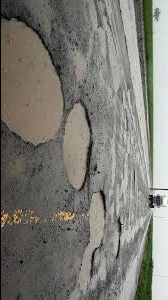pothole: (0, 11, 63, 159), (61, 92, 96, 195), (78, 189, 108, 289), (112, 214, 126, 260)
